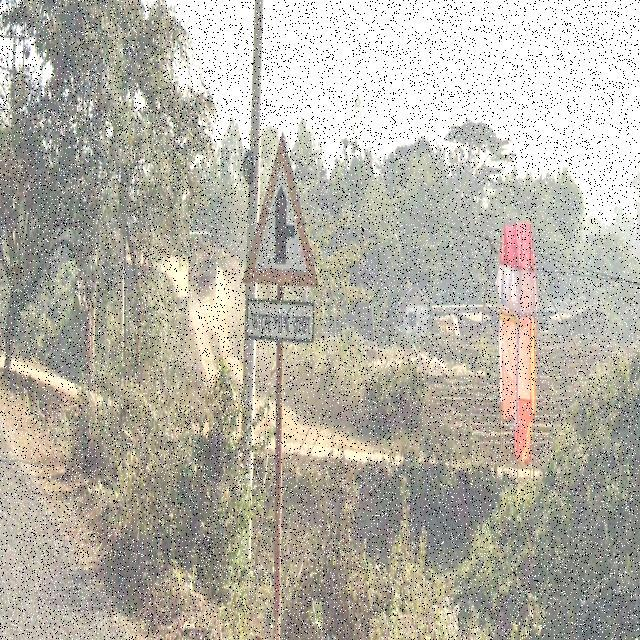Side-road-right: (247, 122, 319, 352)
